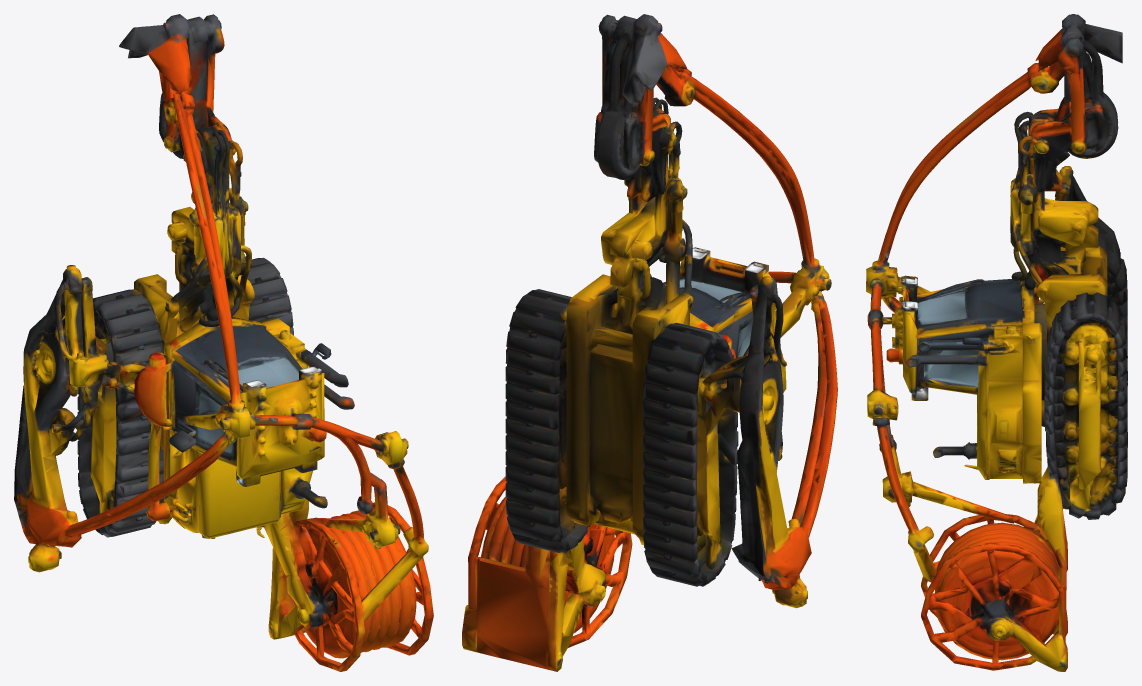
Rendered from traktor_kabeleukladchik.glb.
3 views of the same model, side by side, from view 1: azimuth 30°, elevation 25°; view 2: azimuth 150°, elevation 25°; view 3: azimuth 270°, elevation 25° (orthographic). The views are drawn at different scales.
Parts seen in each view (by area): view 1: traktor_kabeleukladchik; view 2: traktor_kabeleukladchik; view 3: traktor_kabeleukladchik.
Boxes of the visible parts, <box> form: traktor_kabeleukladchik: <box>14,14,433,671</box>; traktor_kabeleukladchik: <box>462,14,837,671</box>; traktor_kabeleukladchik: <box>866,14,1127,671</box>.
Size of the model in its own units: 4.02 by 7.32 by 3.
Materials: 1 (1 with a texture image).
